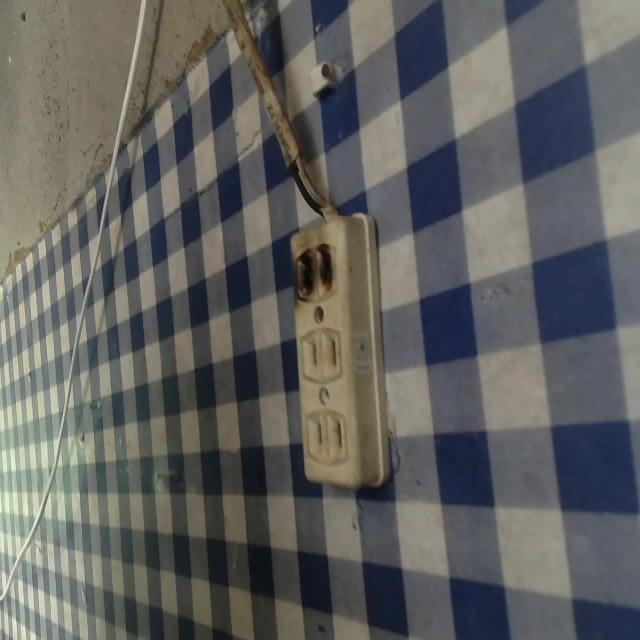-: (285, 243, 350, 301)
